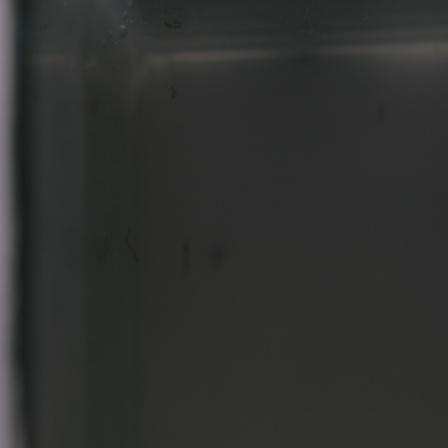Jentik-Nyamuk: (119, 232, 144, 265)
